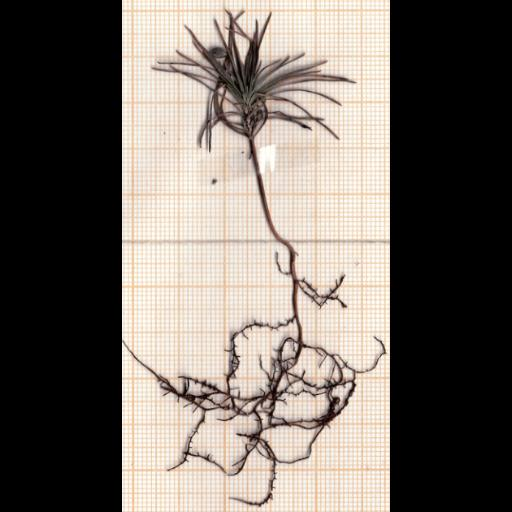flowerCedr: (155, 9, 353, 139)
rootCedr: (148, 278, 355, 506)
stemCedr: (250, 139, 294, 260)
